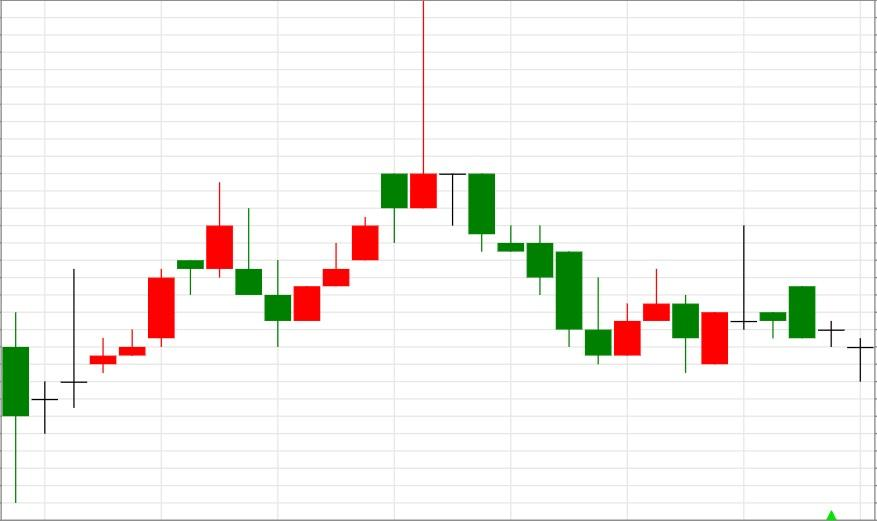evening_star_fall: (264, 0, 496, 348)
inverse_hammer_rise: (409, 0, 613, 365)
shooting_star_fall: (264, 0, 438, 348)
three_white_soldiers_rise: (205, 182, 379, 348)
